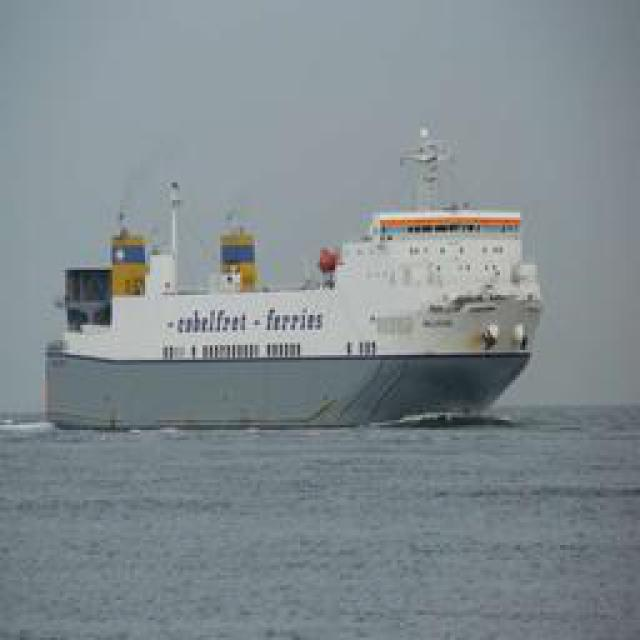Ship: (26, 165, 546, 430)
